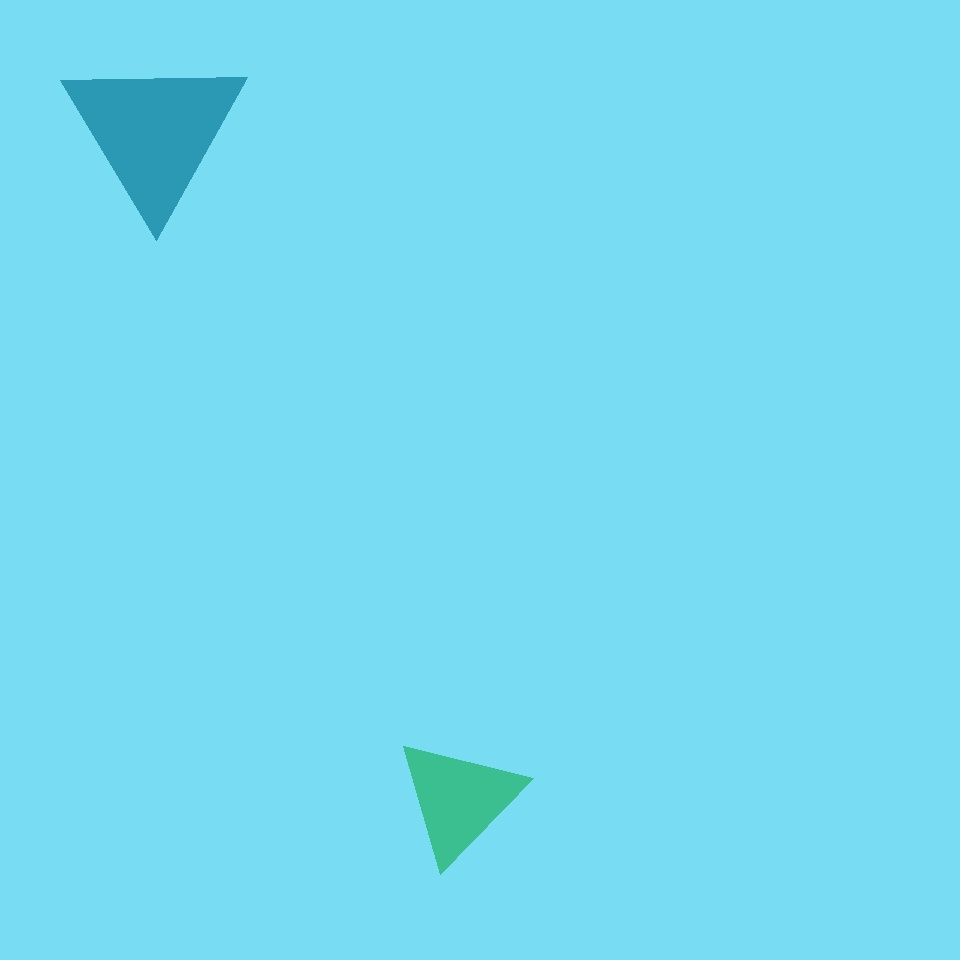circle: (678, 628, 931, 874), (62, 52, 248, 214), (394, 736, 524, 864), (444, 451, 540, 547)
square: (18, 12, 158, 153), (231, 350, 329, 448)
triangle: (391, 158, 546, 314)
